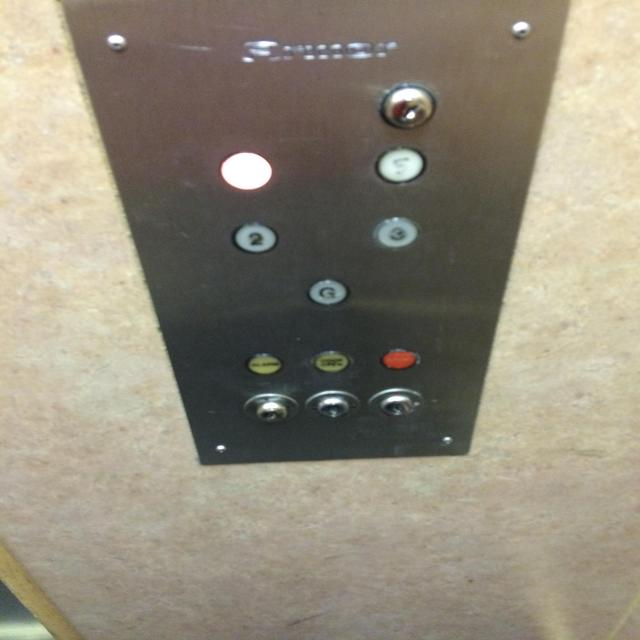2: (230, 219, 282, 257)
3: (368, 212, 422, 258)
5: (369, 142, 432, 189)
G: (302, 275, 352, 310)
empty: (217, 148, 275, 193)
keyhole: (371, 76, 442, 136), (304, 388, 362, 426), (242, 388, 300, 426), (368, 385, 425, 423)
text_blur: (377, 341, 422, 378), (308, 344, 354, 380), (242, 349, 286, 379)
